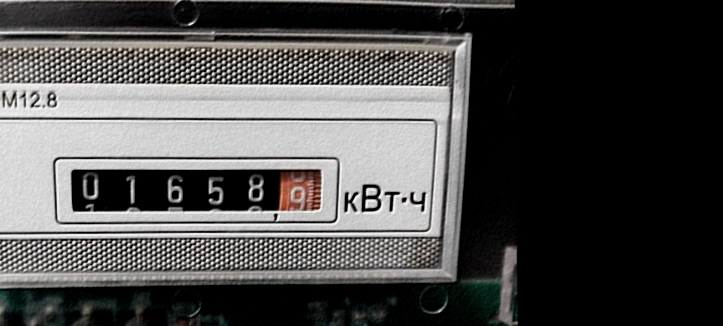0: (81, 170, 101, 200)
1: (124, 173, 141, 205)
5: (206, 174, 227, 205)
6: (166, 171, 186, 204)
8: (247, 170, 267, 203)
9: (287, 184, 308, 212)
screen: (45, 146, 345, 231)
